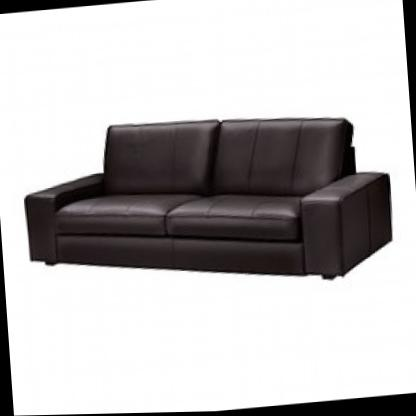Sofa: (13, 82, 397, 315)
